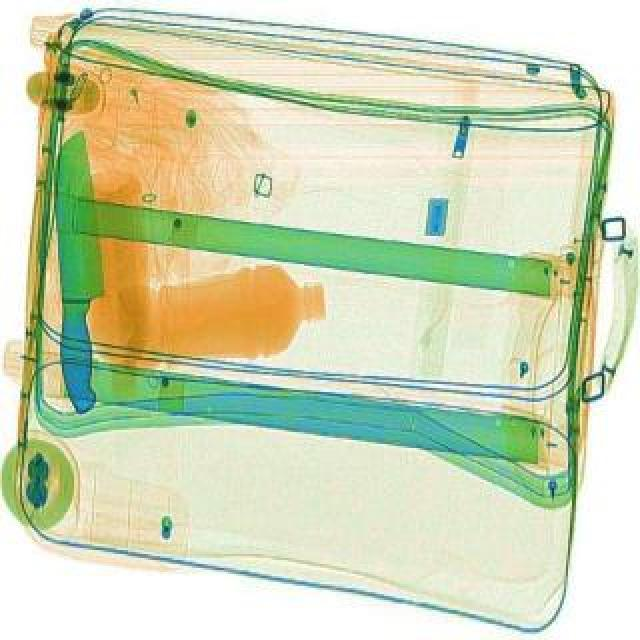knife: (50, 136, 110, 418)
